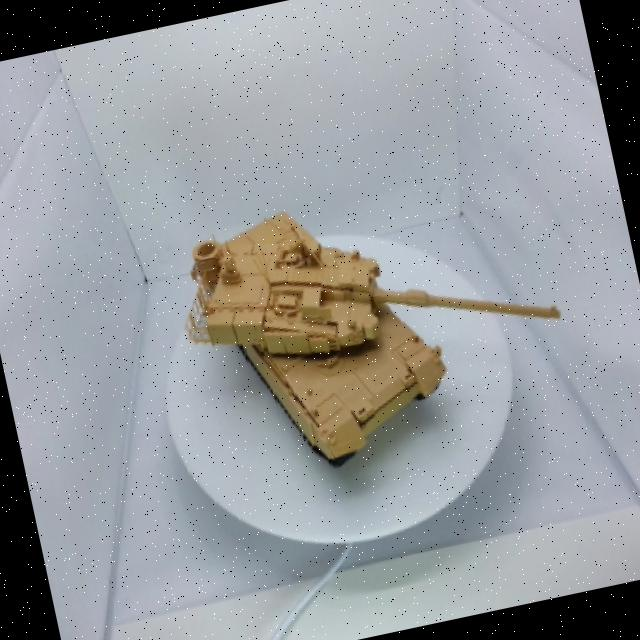korea tank: (148, 130, 596, 518)
